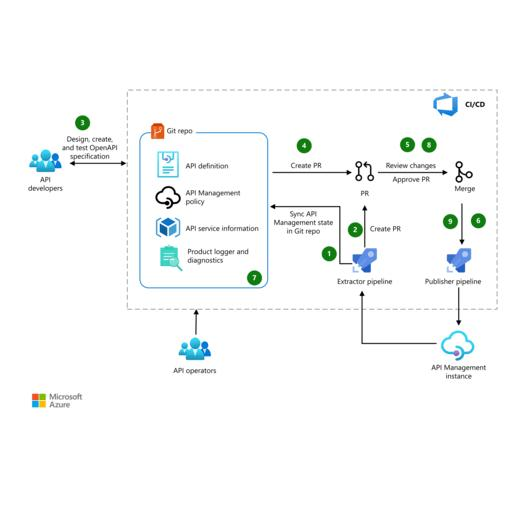actor: (29, 150, 61, 173), (178, 336, 210, 358)
api_gateway: (376, 169, 445, 174), (276, 169, 344, 174), (358, 342, 442, 346), (269, 204, 340, 208), (70, 162, 129, 166), (456, 275, 460, 334), (360, 278, 363, 352), (462, 183, 465, 242), (363, 194, 366, 244), (338, 204, 340, 258), (193, 308, 196, 336)
compute: (442, 330, 474, 358)
data_flow: (156, 152, 180, 176), (156, 247, 180, 270), (156, 186, 180, 208)
database_storage: (349, 246, 374, 271), (446, 246, 470, 271), (352, 158, 370, 182), (454, 158, 472, 182)
network_security: (156, 216, 180, 240)
trust_boundary: (126, 89, 496, 308), (140, 132, 268, 288)
